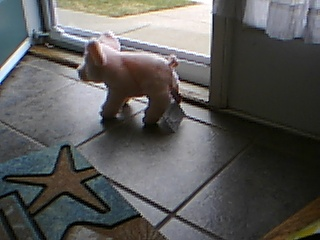piggy: (76, 29, 183, 128)
